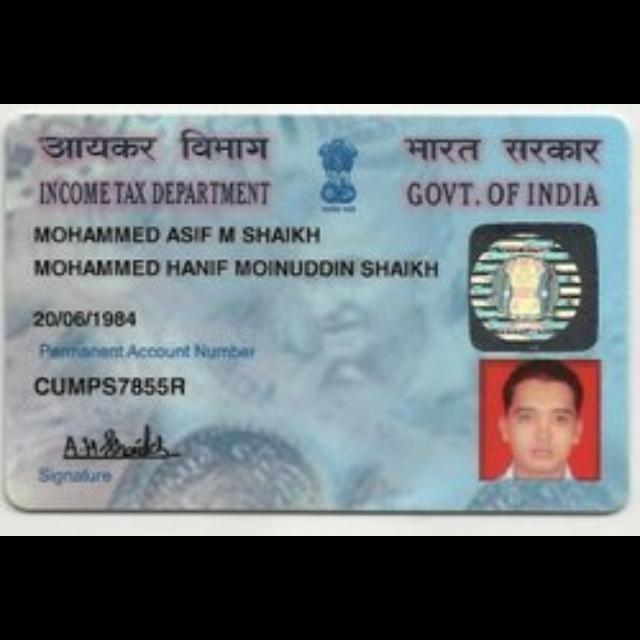pan: (1, 109, 636, 524)
